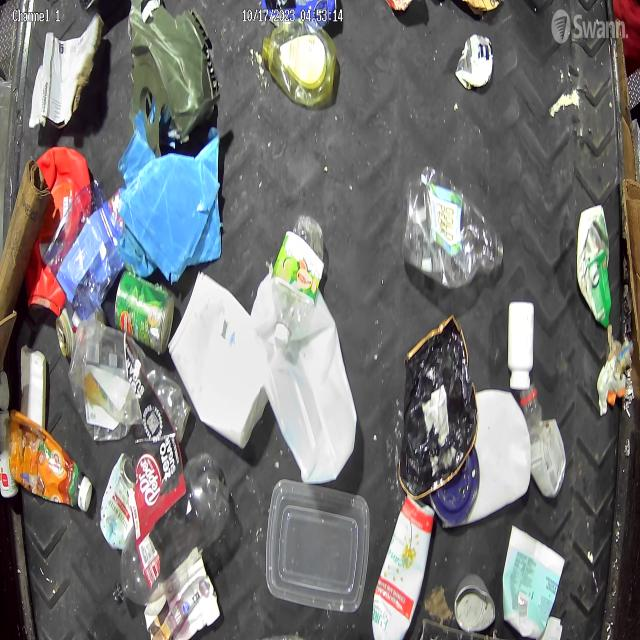can: (114, 268, 175, 354), (99, 451, 138, 551), (454, 576, 496, 630), (455, 34, 494, 92), (56, 307, 76, 360)
milk_jug: (260, 276, 358, 487)
non_white_jug: (25, 145, 93, 317)
plastic_bottle: (112, 452, 230, 608), (402, 165, 505, 290), (270, 213, 324, 346), (520, 386, 568, 498)
